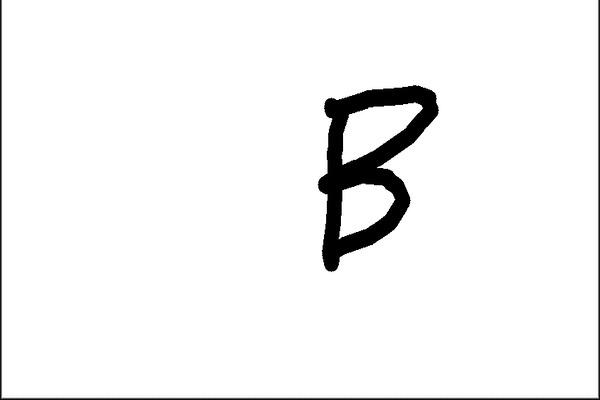B: (303, 76, 449, 279)
